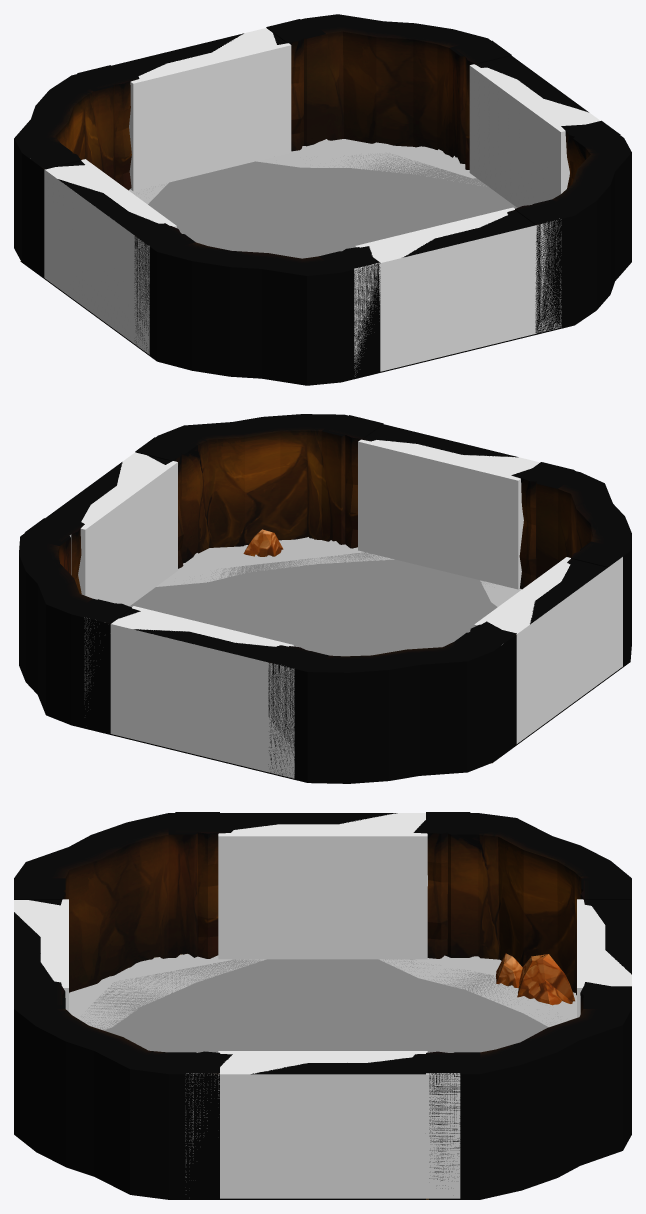
File: Dungeon_062_StartRoom_001_003.fbx
3 renders of one model, top to bottom at view 1: azimuth 30°, elevation 25°; view 2: azimuth 150°, elevation 25°; view 3: azimuth 270°, elevation 25°, orthographic. The views are drawn at different scales.
Visible parts, largest first — view 1: Dun_062_StartRoom_001_wall, DoorWay_NavMask (1) (×4), DoorWay_NavMask (3) (×3), Dun_062_StartRoom_001_Nav, Dun_062_Door_002 (×4), Dun_062_StartRoom_001_shadow, DoorWay_NavMask (2) (×3); view 2: Dun_062_StartRoom_001_wall, DoorWay_NavMask (1) (×4), DoorWay_NavMask (3) (×4), Dun_062_StartRoom_001_Nav, Dun_062_Door_002 (×4), Dun_062_StartRoom_001_shadow, DoorWay_NavMask (2) (×3), Dun_062_Object_100; view 3: Dun_062_StartRoom_001_wall, DoorWay_NavMask (1) (×4), Dun_062_StartRoom_001_Nav, DoorWay_NavMask (3) (×3), Dun_062_Door_002 (×4), Dun_062_StartRoom_001_shadow, Dun_062_Object_100, DoorWay_NavMask (2) (×3).
Boxes of the visible parts, x1,y1,x2,y2 form: Dun_062_StartRoom_001_wall: [14, 14, 631, 385]; DoorWay_NavMask (1) (×4): [44, 28, 600, 371]; DoorWay_NavMask (3) (×3): [45, 28, 561, 376]; Dun_062_StartRoom_001_Nav: [138, 153, 516, 258]; Dun_062_Door_002 (×4): [26, 19, 620, 372]; Dun_062_StartRoom_001_shadow: [129, 139, 486, 204]; DoorWay_NavMask (2) (×3): [226, 34, 587, 257]; Dun_062_StartRoom_001_wall: [19, 414, 631, 783]; DoorWay_NavMask (1) (×4): [78, 439, 584, 768]; DoorWay_NavMask (3) (×4): [84, 443, 622, 778]; Dun_062_StartRoom_001_Nav: [129, 552, 497, 656]; Dun_062_Door_002 (×4): [25, 415, 627, 773]; Dun_062_StartRoom_001_shadow: [156, 537, 521, 606]; DoorWay_NavMask (2) (×3): [120, 456, 532, 630]; Dun_062_Object_100: [243, 529, 283, 556]; Dun_062_StartRoom_001_wall: [14, 813, 631, 1199]; DoorWay_NavMask (1) (×4): [14, 813, 631, 1198]; Dun_062_StartRoom_001_Nav: [81, 959, 561, 1052]; DoorWay_NavMask (3) (×3): [14, 813, 460, 1198]; Dun_062_Door_002 (×4): [14, 812, 631, 1199]; Dun_062_StartRoom_001_shadow: [69, 954, 576, 1030]; Dun_062_Object_100: [496, 953, 574, 1005]; DoorWay_NavMask (2) (×3): [220, 815, 625, 1071].
Bounding box in the file's own units: 9 × 2.04 × 9.
